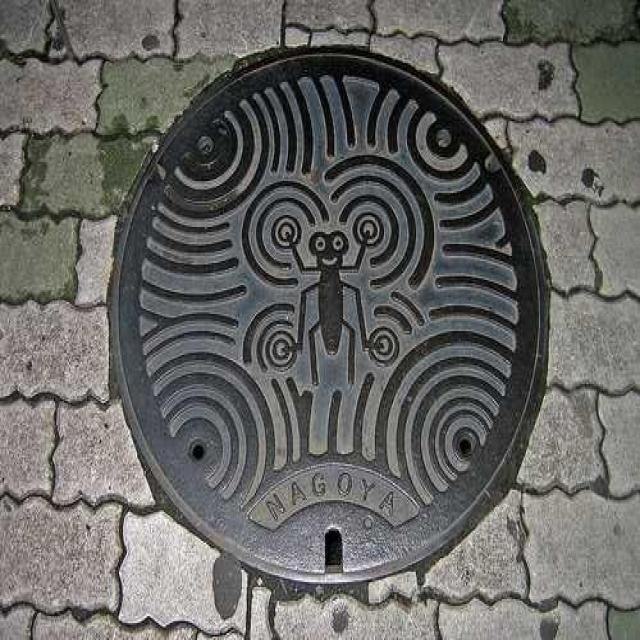manhole: (111, 50, 547, 586)
